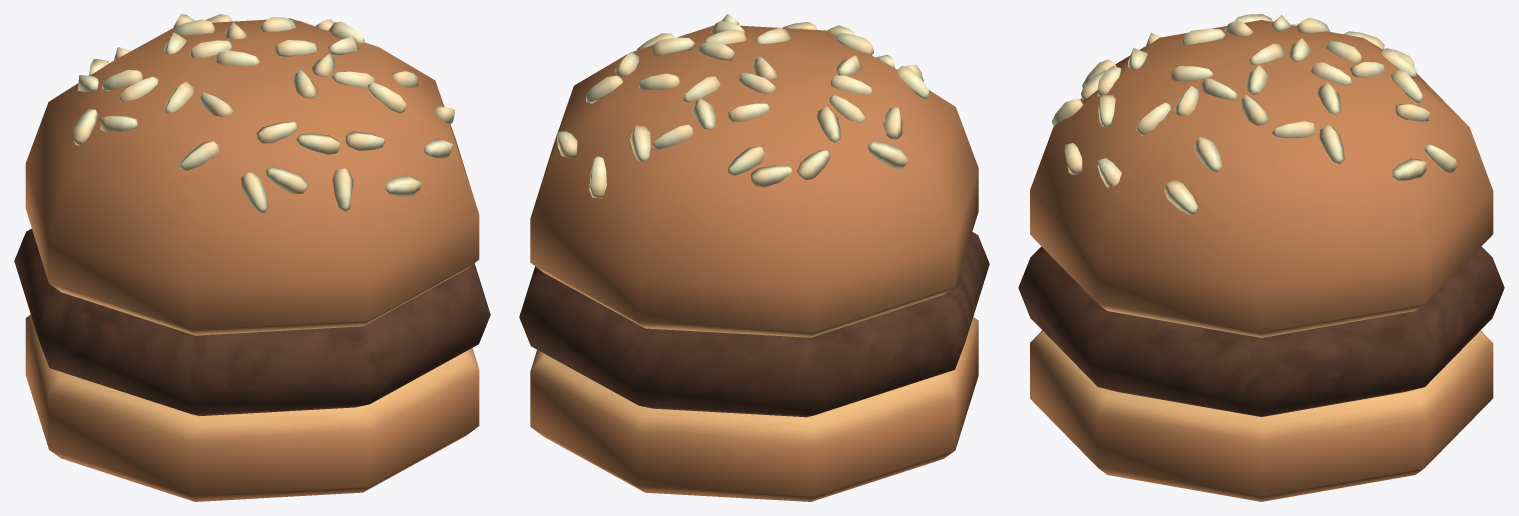
File: bun_patty.obj
3 views of the same model, side by side, from view 1: azimuth 30°, elevation 25°; view 2: azimuth 150°, elevation 25°; view 3: azimuth 270°, elevation 25° (orthographic).
Visible parts, largest first — view 1: BunsPatty1; view 2: BunsPatty1; view 3: BunsPatty1.
Boxes of the visible parts, bbox=[...] form: BunsPatty1: bbox=[14, 14, 490, 501]; BunsPatty1: bbox=[519, 14, 989, 501]; BunsPatty1: bbox=[1018, 14, 1504, 501].
Bounding box in the file's own units: 2.1 × 1.71 × 2.1.
1 material, 1 textured.
